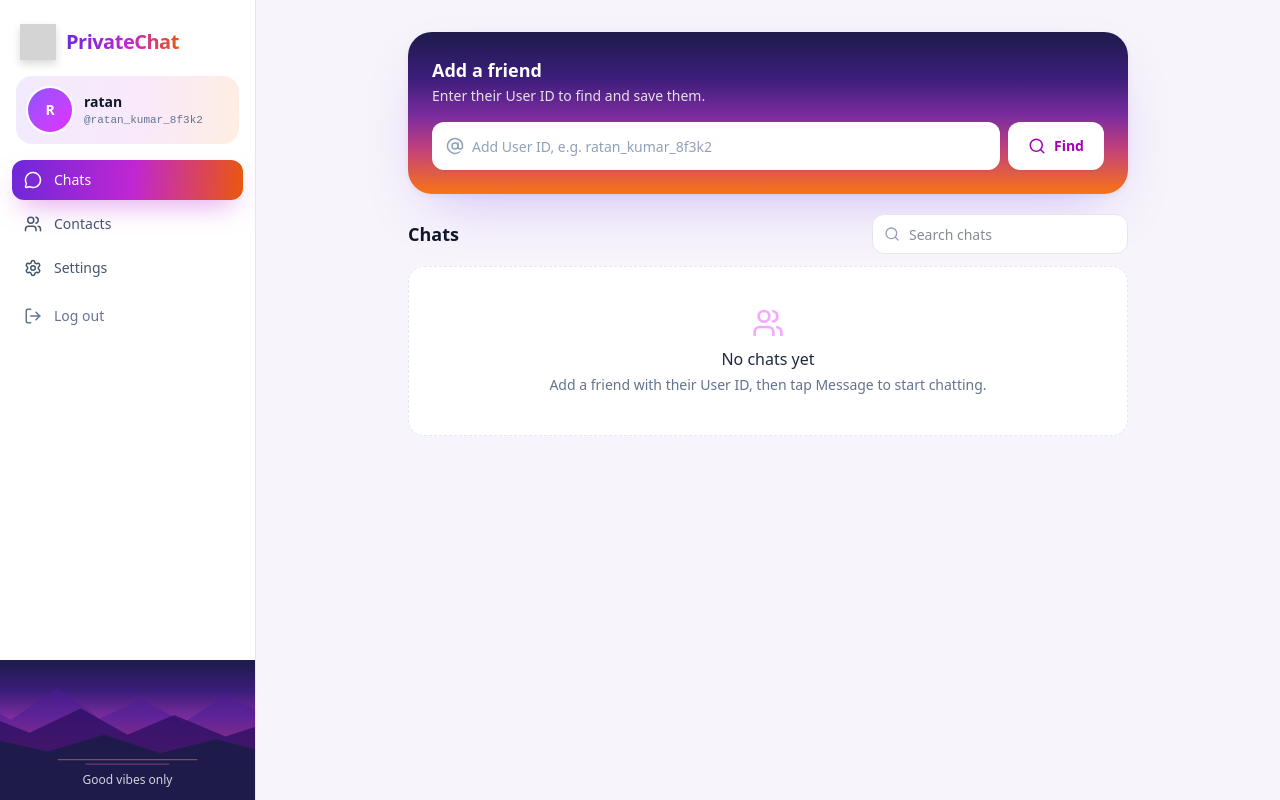
it: add by User ID (screens 4 and 5) › does not offer Add Friend for yourself
The width and height of the screenshot is (1280, 800).
In the field named "Friend's User ID": (716, 146) 432,122 -> 1000,170, type "ratan_kumar_8f3k2"
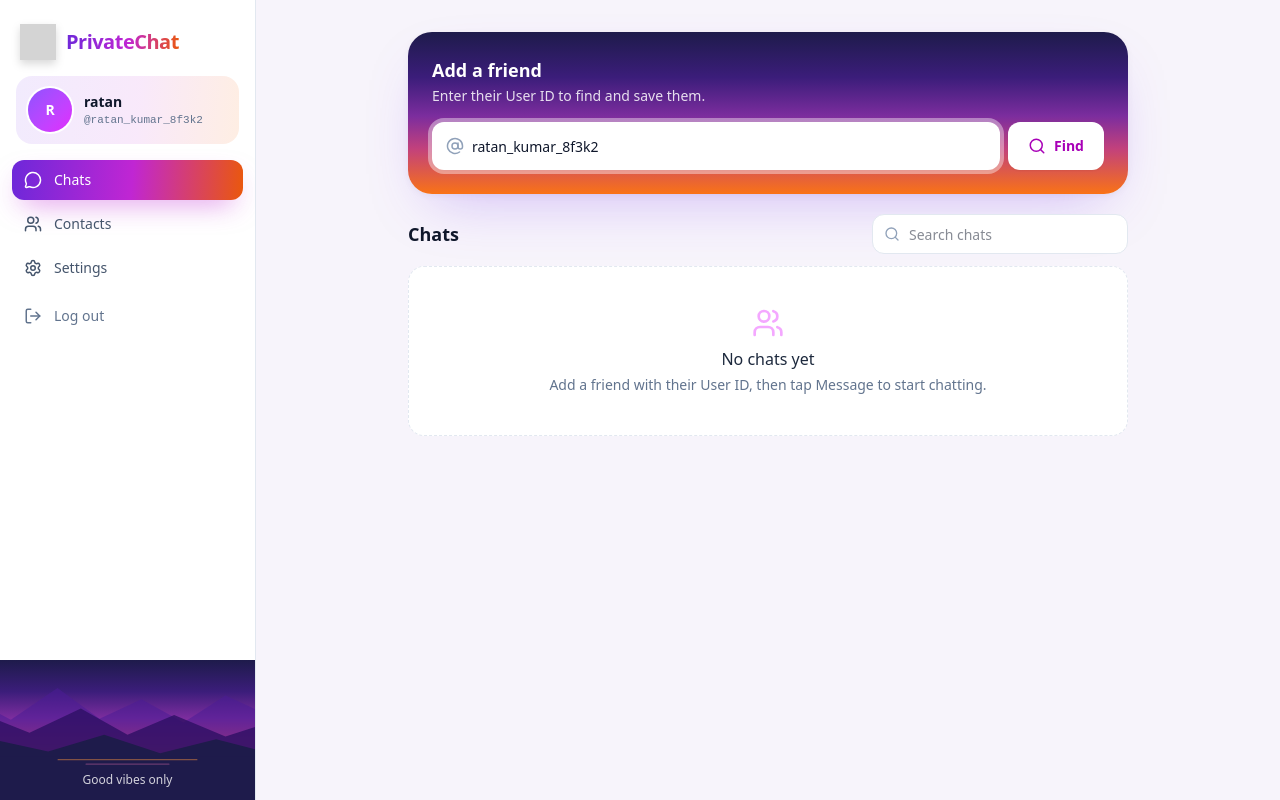
Click the button "Find": (1056, 146) 1008,122 -> 1104,170
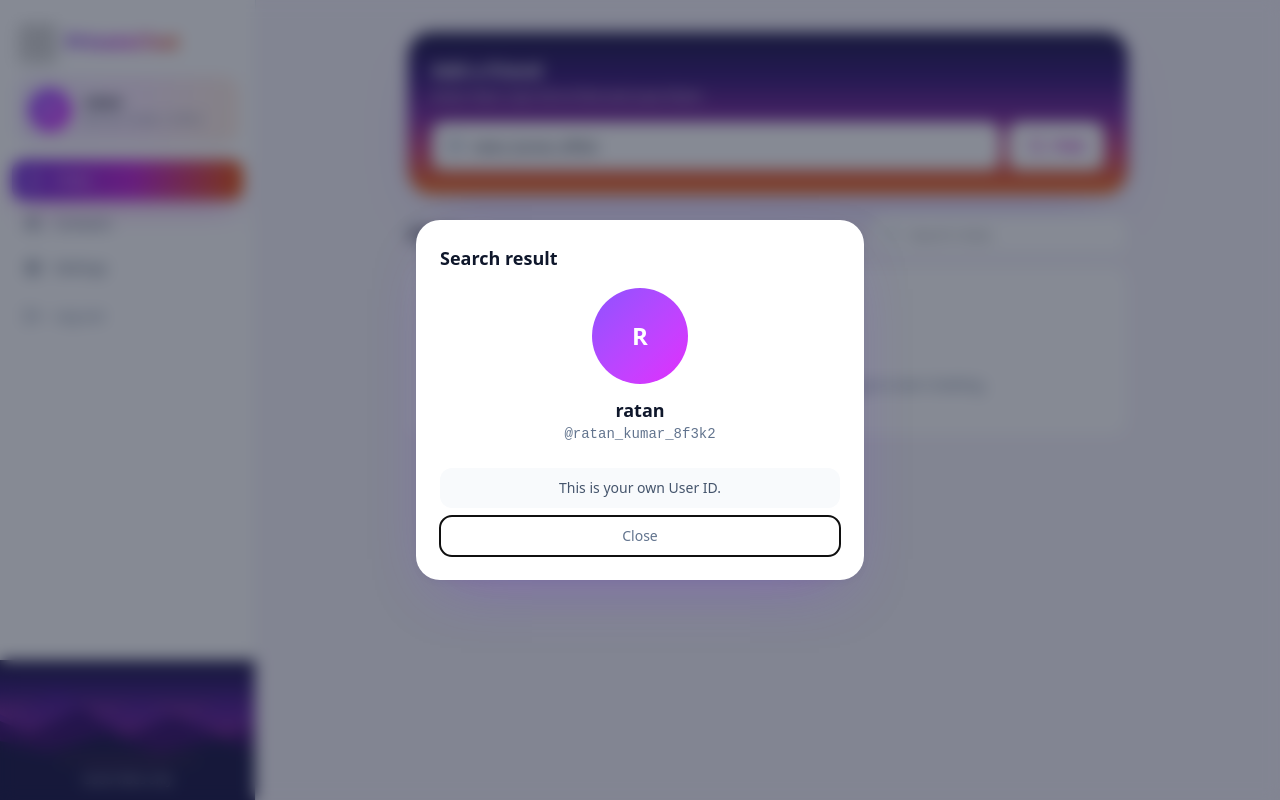
Now the text "This is your own User ID." is shown, box 440,468 -> 840,508
